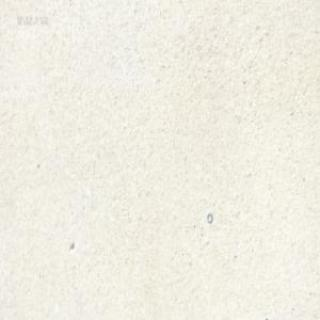Washertrack_idkeyframe: (205, 211, 212, 222)
